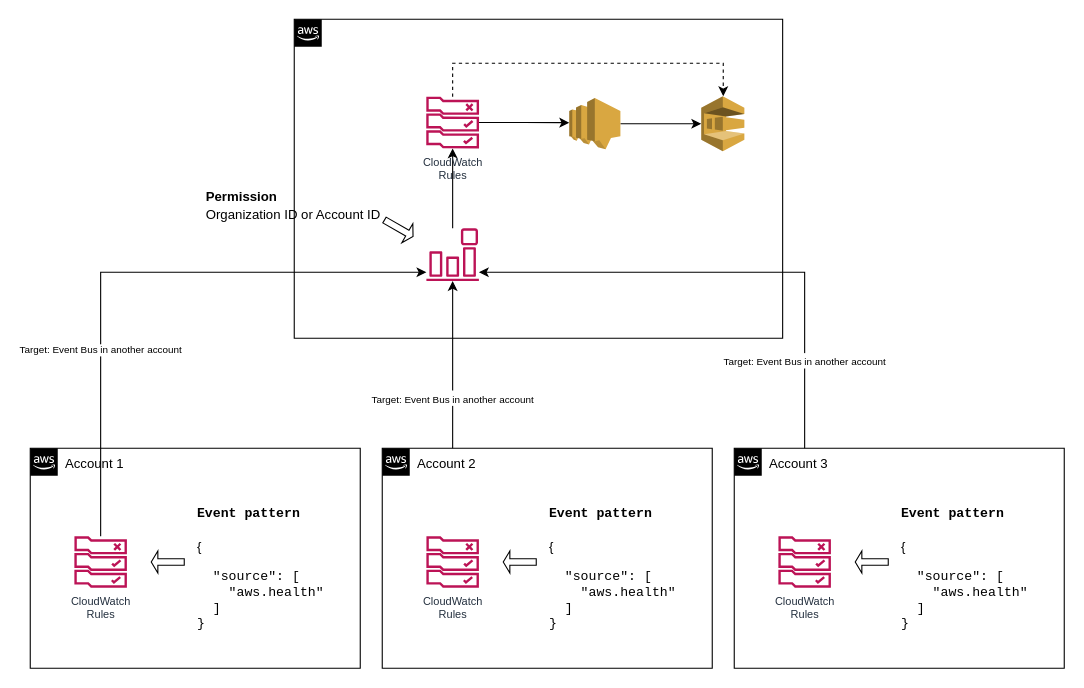
Some shapes in this 1084 by 688 pixel diagram are drawn without their labels. The box of each missing label's shape, as (x1, y1, x2, y2) in pixels:
Cloudwatch Events Buses: (426, 228, 479, 280)
Receiver Account: (293, 18, 783, 338)
SNS Topic: (568, 97, 620, 149)
SQS: (700, 95, 744, 151)
